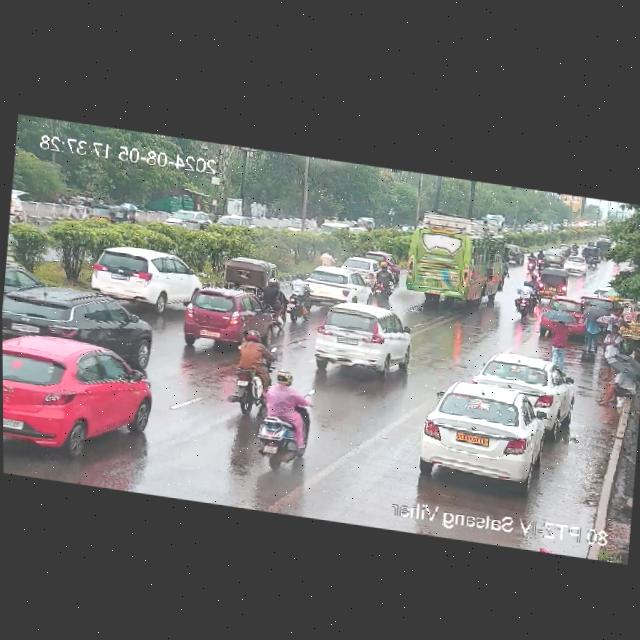bus: (398, 210, 516, 310)
car: (2, 324, 163, 468), (2, 266, 169, 372), (415, 374, 548, 488), (304, 295, 416, 381), (84, 242, 198, 313), (476, 348, 573, 419), (175, 280, 267, 354), (300, 262, 370, 308), (5, 259, 57, 318), (536, 290, 588, 346), (226, 256, 274, 293), (159, 204, 211, 231), (533, 263, 571, 298), (87, 199, 134, 224), (340, 254, 383, 279), (215, 209, 257, 233), (559, 256, 588, 277), (576, 240, 600, 265), (8, 190, 24, 227), (504, 243, 525, 271)
motorcycle: (254, 364, 317, 474), (221, 320, 281, 419), (256, 279, 298, 324), (507, 278, 538, 319), (370, 258, 395, 303), (281, 274, 312, 298), (536, 248, 565, 266), (525, 249, 544, 272)
person: (537, 306, 576, 379), (592, 357, 640, 411), (596, 311, 631, 385), (576, 303, 606, 358)
